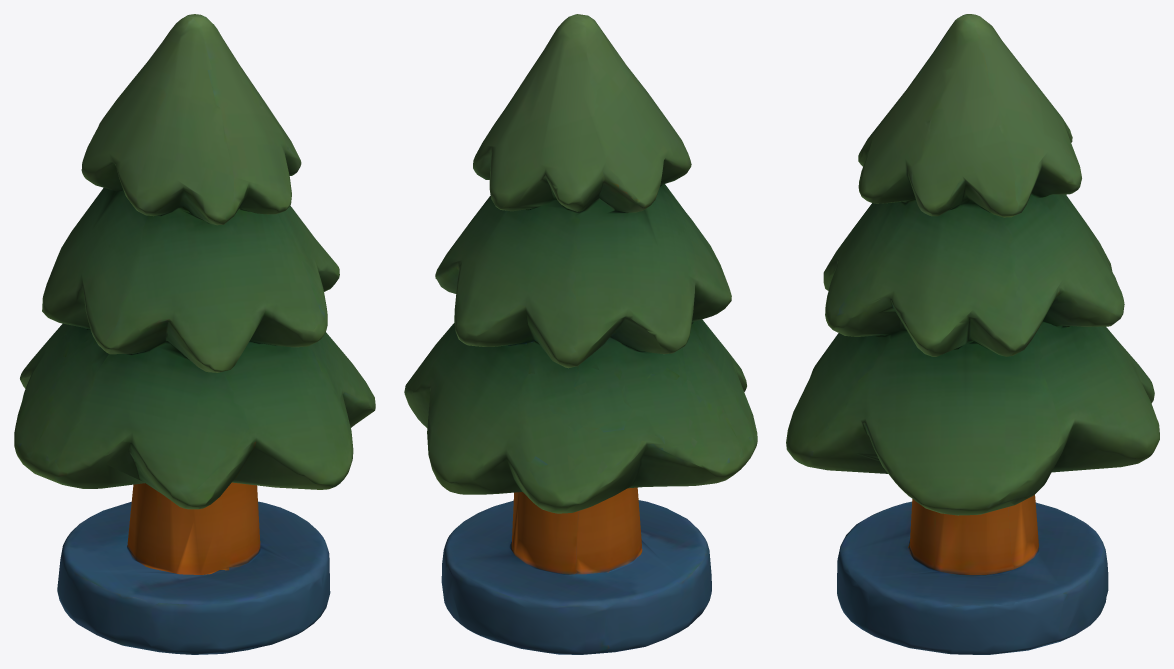
File: tree-conifer.glb
3 renders of one model, left to right at view 1: azimuth 30°, elevation 25°; view 2: azimuth 150°, elevation 25°; view 3: azimuth 270°, elevation 25°, orthographic.
Parts seen in each view (by area): view 1: textured_mesh.obj; view 2: textured_mesh.obj; view 3: textured_mesh.obj.
Part boxes in pixels (<box>): textured_mesh.obj: <box>14,14,375,654</box>; textured_mesh.obj: <box>404,14,757,654</box>; textured_mesh.obj: <box>786,14,1159,654</box>.
Size of the model in its own units: 0.5879 by 0.9997 by 0.5802.
Materials: 1 (1 with a texture image).
